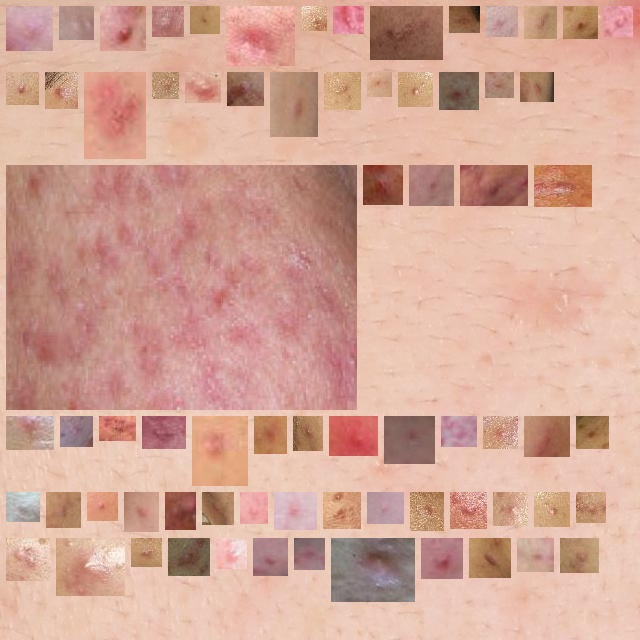papule: (14, 173, 349, 404), (92, 80, 138, 151), (339, 546, 407, 594), (234, 14, 287, 58), (64, 546, 117, 588), (378, 14, 435, 52), (200, 424, 240, 478), (278, 80, 310, 129), (468, 173, 520, 198), (392, 424, 427, 456), (542, 173, 584, 199), (14, 14, 45, 43), (108, 14, 138, 43), (14, 416, 46, 442), (337, 424, 370, 448), (14, 546, 42, 573), (532, 424, 562, 449), (417, 173, 446, 198), (429, 546, 455, 571), (477, 546, 503, 570), (282, 500, 309, 522), (371, 173, 395, 197), (176, 546, 202, 568), (447, 80, 471, 102), (150, 424, 178, 441), (332, 80, 353, 102), (331, 500, 353, 521), (132, 500, 151, 524), (458, 500, 479, 521), (568, 546, 591, 565), (261, 546, 280, 568), (418, 500, 436, 523), (54, 500, 73, 520), (542, 500, 562, 519), (235, 80, 256, 98), (525, 546, 546, 564), (262, 424, 279, 446), (406, 80, 425, 99), (53, 80, 70, 101), (67, 14, 86, 32), (501, 500, 520, 518), (375, 500, 396, 516), (173, 500, 188, 522), (571, 14, 590, 31), (491, 424, 510, 441), (302, 546, 317, 567), (193, 80, 213, 95), (449, 424, 469, 439), (532, 14, 549, 31), (14, 80, 31, 97), (584, 424, 601, 441), (210, 500, 226, 517), (301, 424, 315, 443), (68, 424, 85, 439), (528, 80, 546, 94), (14, 500, 32, 514), (160, 14, 176, 29), (494, 14, 510, 29), (224, 546, 239, 561), (584, 500, 598, 515), (612, 14, 625, 29), (95, 500, 110, 513), (139, 546, 154, 559), (248, 500, 260, 516), (107, 424, 128, 433), (341, 14, 356, 26), (198, 14, 212, 26), (457, 14, 472, 25), (493, 80, 506, 90), (160, 80, 171, 91), (309, 14, 319, 23), (375, 80, 384, 89)
